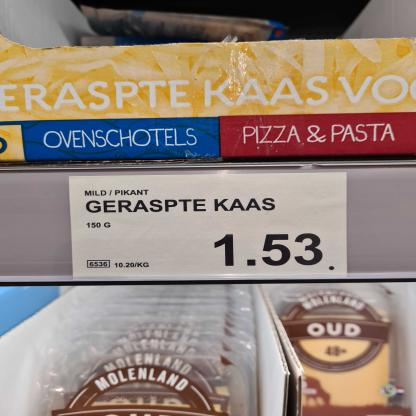prtg: (70, 174, 349, 281)
